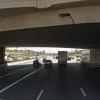Bridge: (4, 4, 94, 52)
